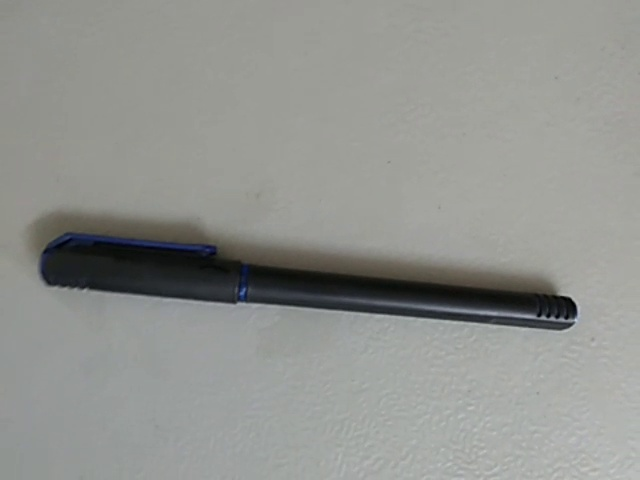Pen: (9, 212, 603, 391)
